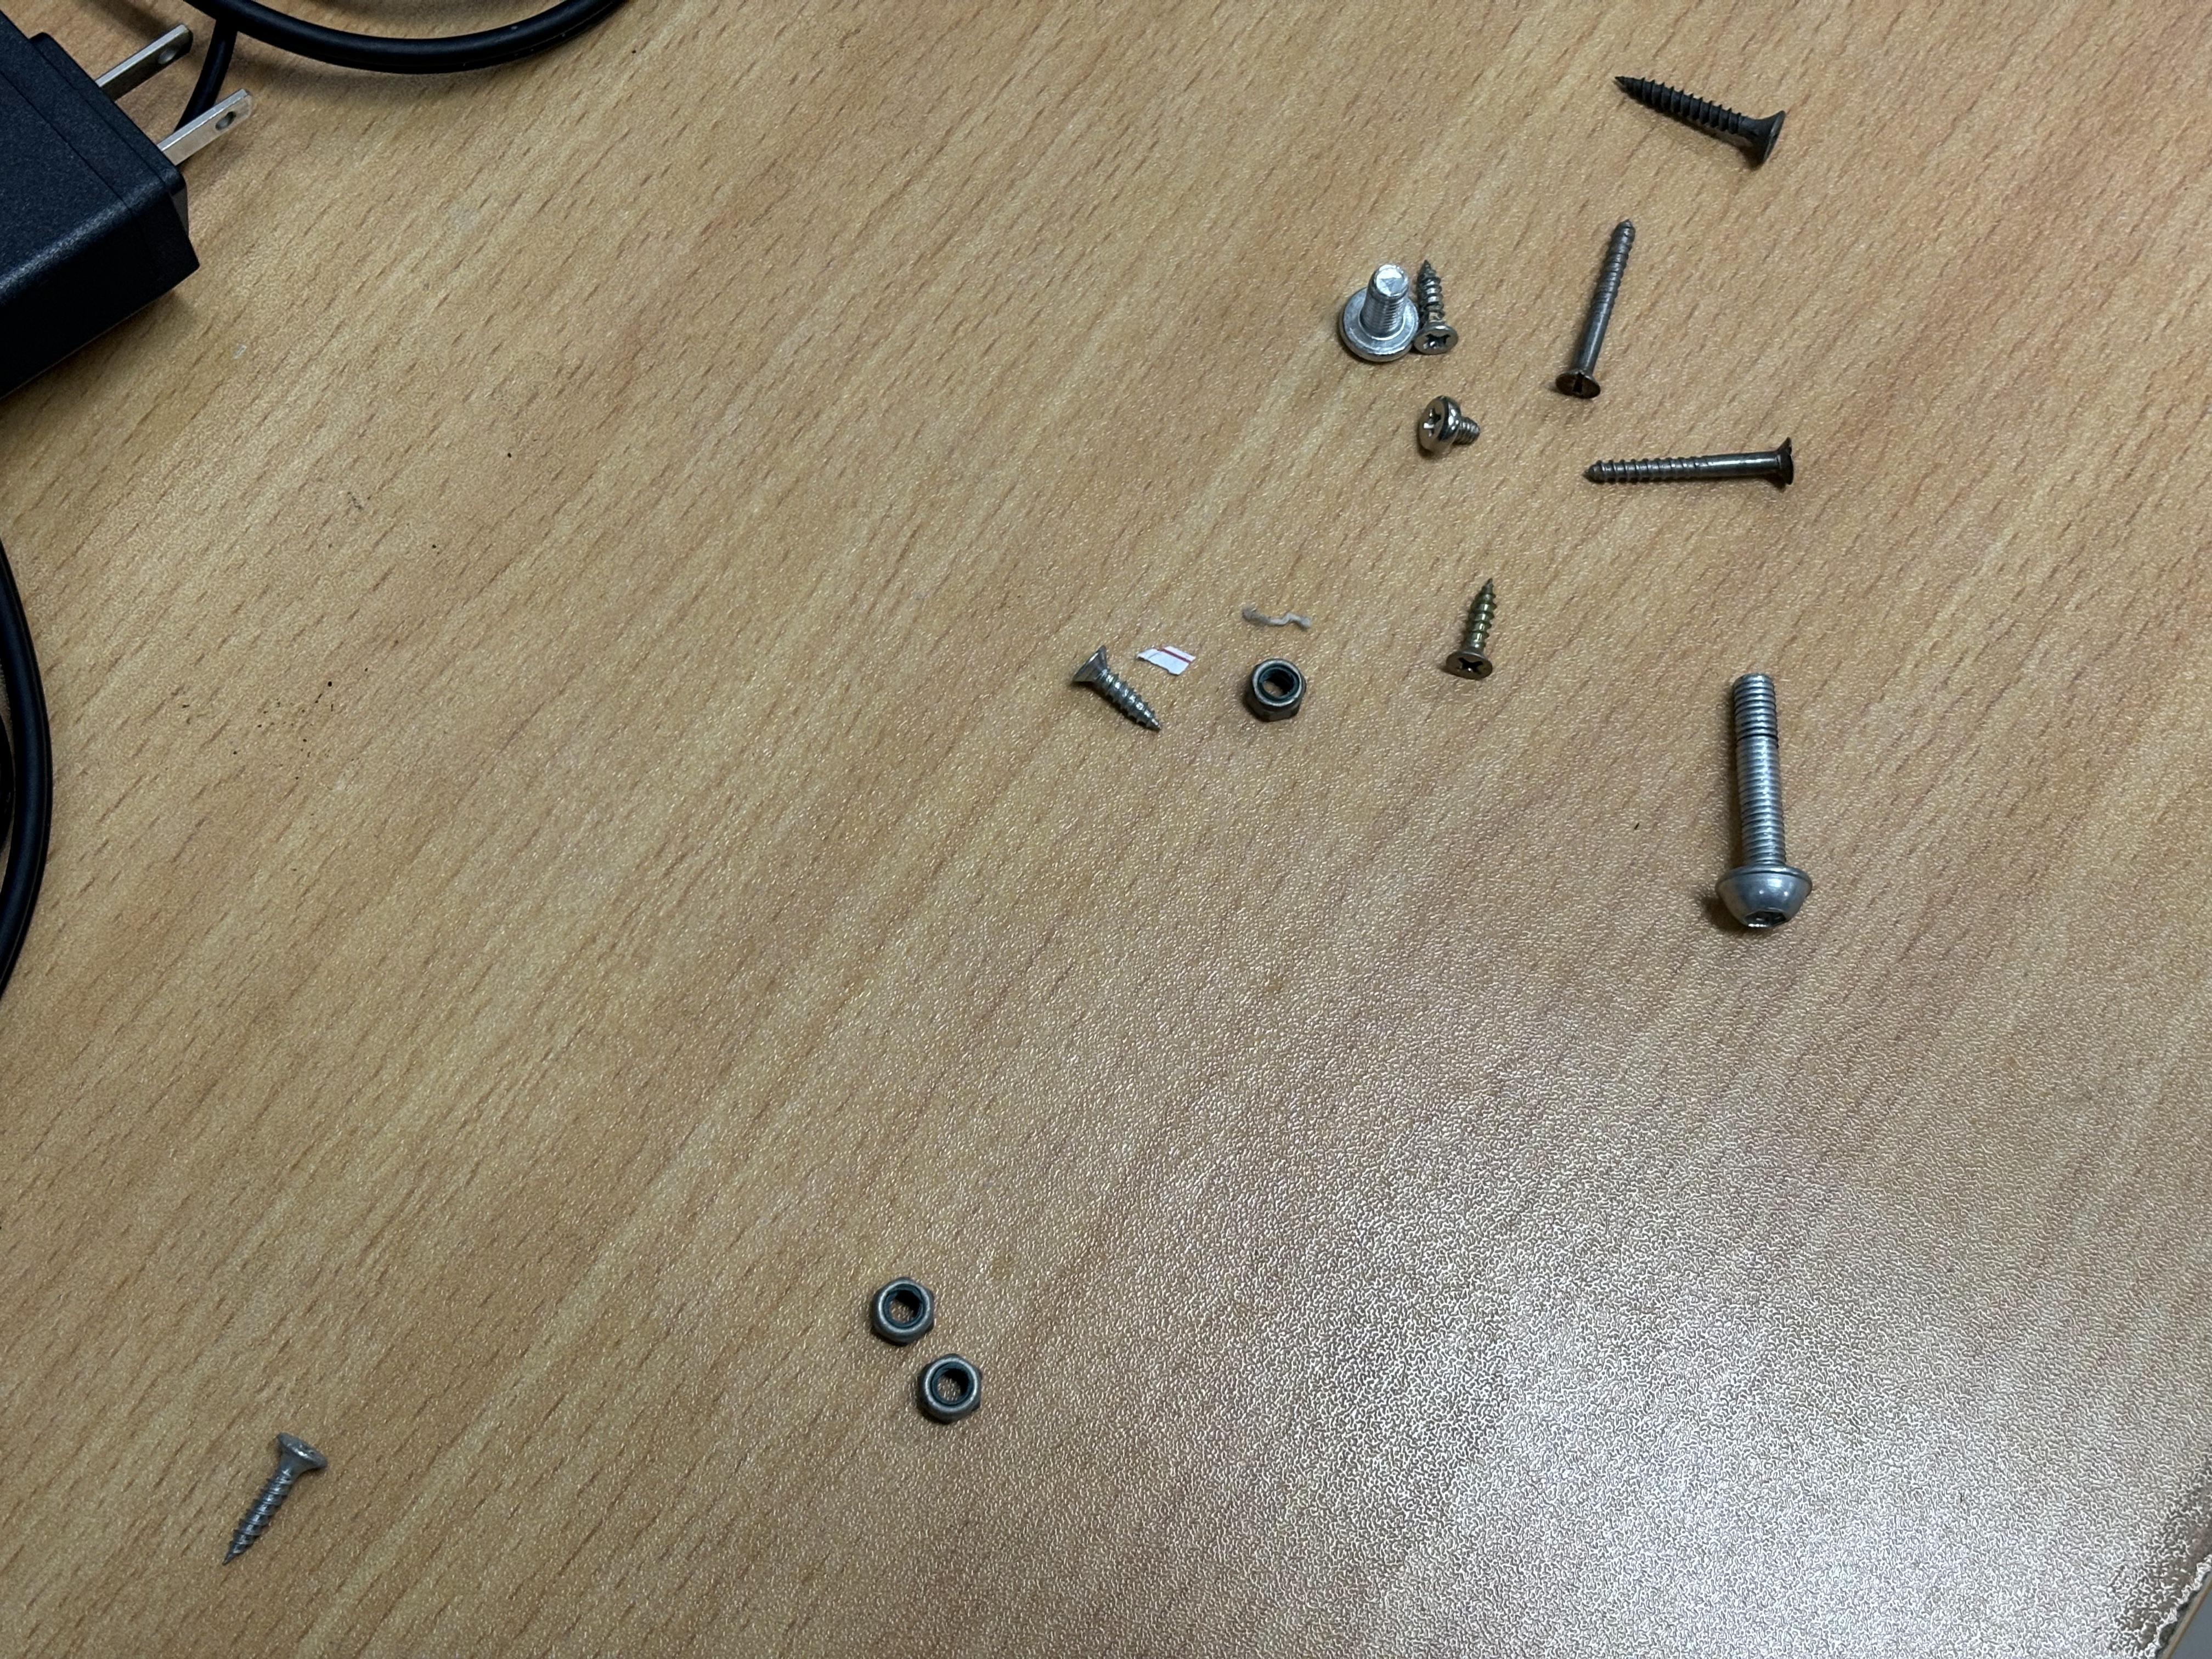Flange nut: (914, 1351, 984, 1427), (869, 1274, 935, 1347), (1240, 655, 1310, 721)
Round head screw: (1716, 673, 1813, 931), (1615, 75, 1789, 171), (1554, 216, 1637, 399), (221, 1432, 327, 1567), (1583, 437, 1794, 484), (1071, 643, 1167, 735), (1338, 261, 1418, 364), (1444, 577, 1498, 680), (1411, 260, 1460, 356), (1418, 394, 1486, 457)
